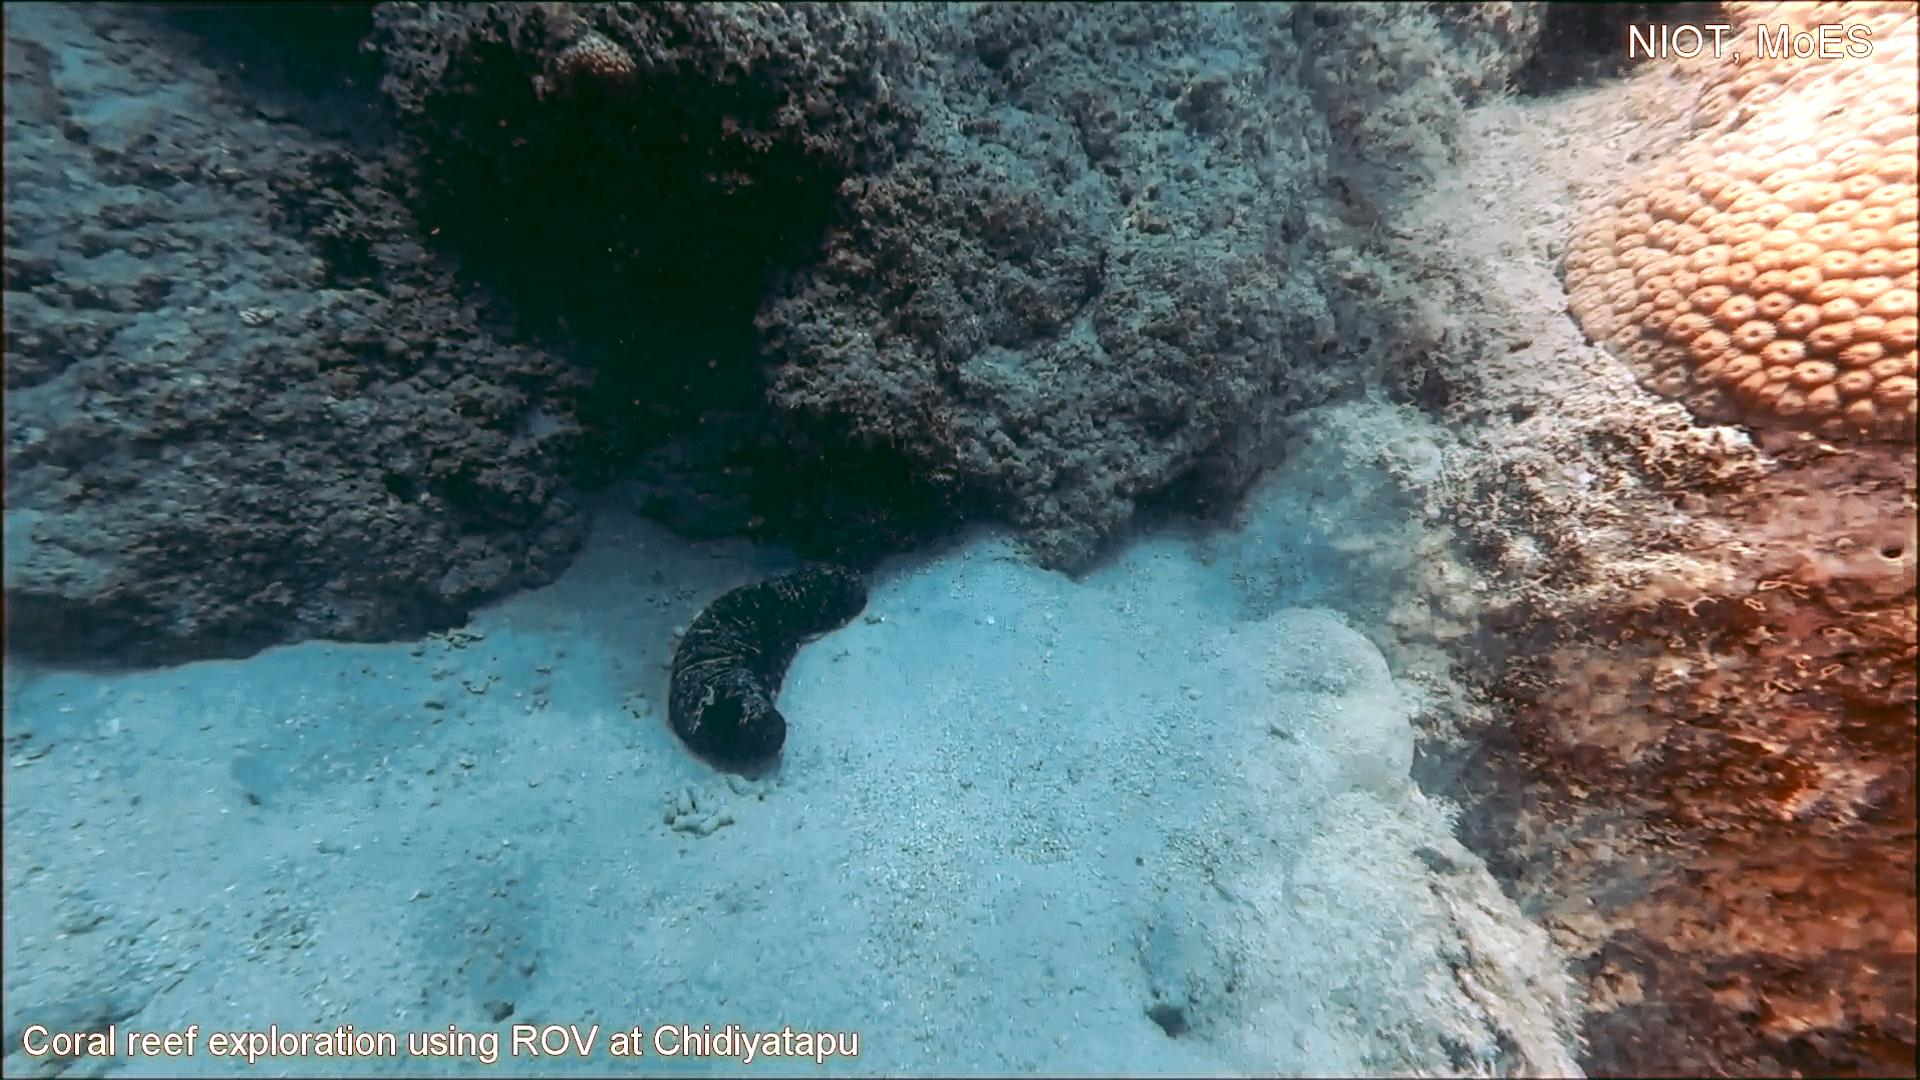Montastraea: (1548, 0, 1920, 463), (526, 20, 653, 123)
